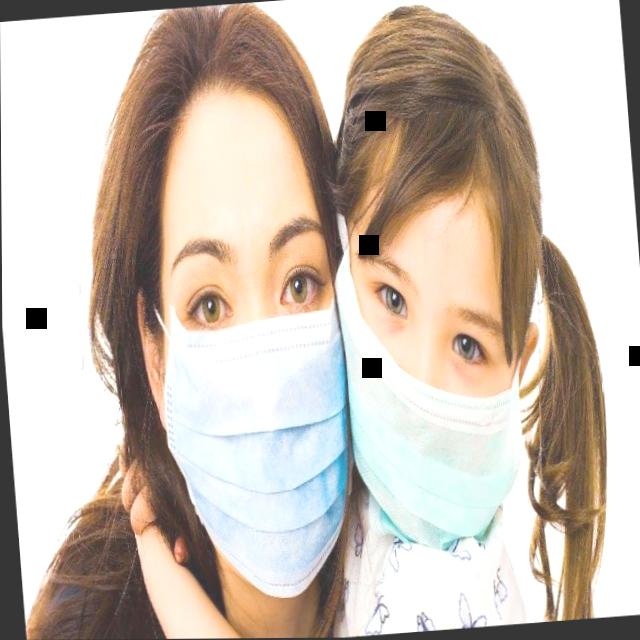Mask: (74, 10, 368, 619), (303, 25, 585, 576)
